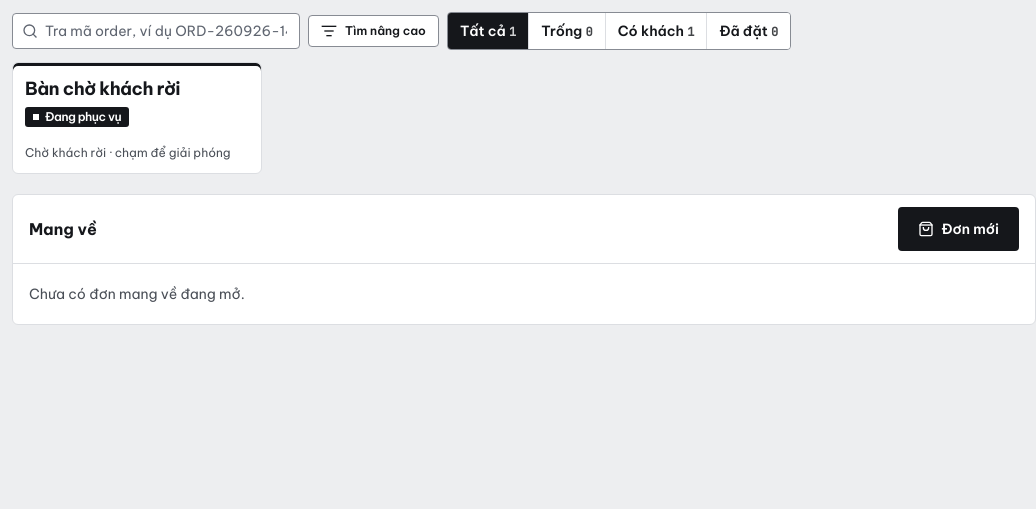
it: FloorStep › counts a physically occupied table without an open order as busy
Click the button "Bàn chờ khách rời" at [137, 118], box [12,62,262,174]
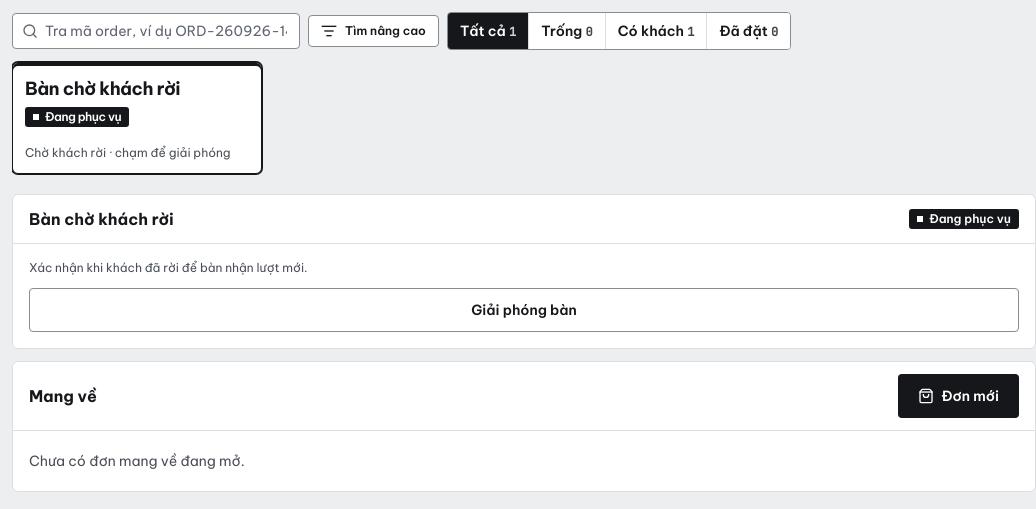
Check: the button "Có khách 1" is shown, box [605,13,706,49]
Check: the button "Giải phóng bàn" is shown, box [29,288,1019,332]
